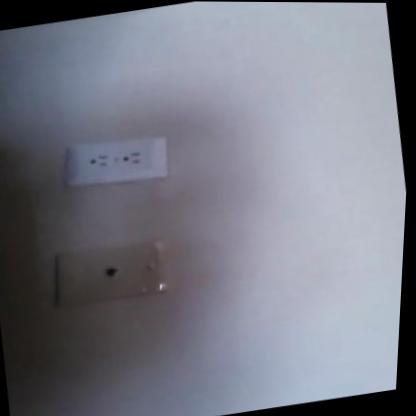OUTLET: (61, 130, 173, 193)
